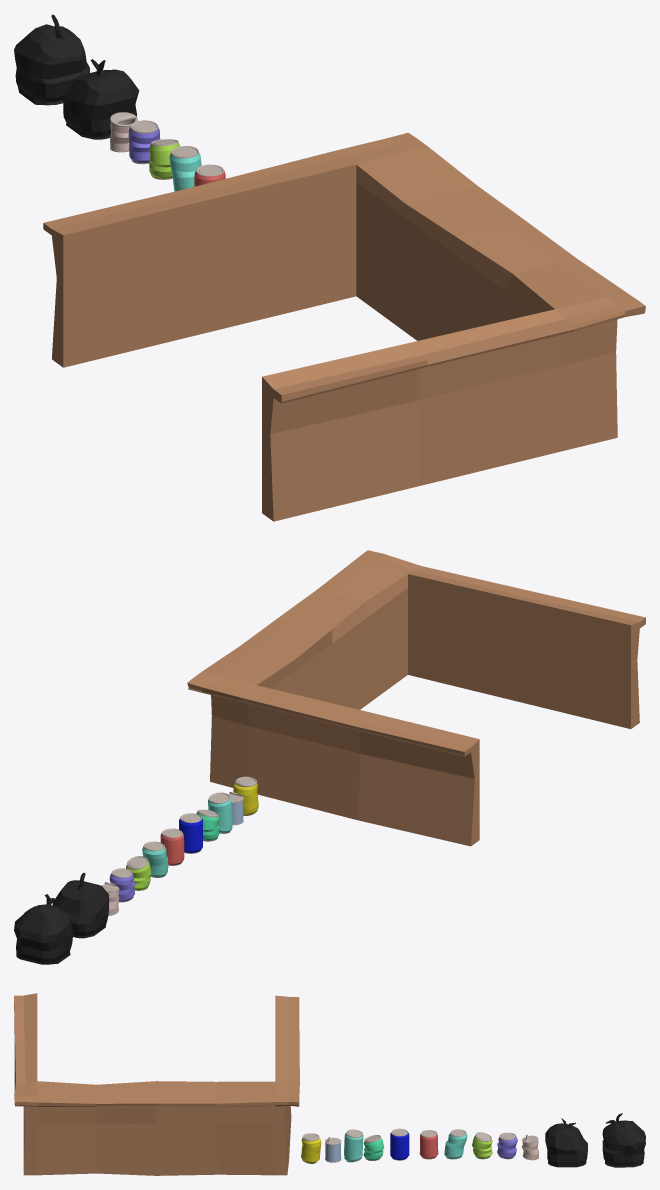
File: Trash_Shop_stand.fbx
The picture shows the model from 3 angles, top to bottom: view 1: azimuth 30°, elevation 25°; view 2: azimuth 150°, elevation 25°; view 3: azimuth 270°, elevation 25°; orthographic projection. The views are drawn at different scales.
Parts seen in each view (by area): view 1: stand.001, trash, can(teal1), can(purple), can(green), soup bent; view 2: stand.001, trash, can(blue), can(teal), can(red), can(teal1), can(yellow), can(purple), can(green); view 3: stand.001, trash, can(teal), can(blue), can(teal1), can(yellow), can(red), can(purple), can(green), can(teal-green), soup straight, soup bent.
Boxes of the visible parts, left/top/right/bottom form: stand.001: left=43, top=132, right=645, bottom=521; trash: left=14, top=14, right=139, bottom=139; can(teal1): left=169, top=146, right=201, bottom=191; can(purple): left=128, top=120, right=160, bottom=164; can(green): left=149, top=139, right=179, bottom=179; soup bent: left=110, top=112, right=137, bottom=152; stand.001: left=187, top=550, right=645, bottom=846; trash: left=14, top=872, right=108, bottom=964; can(blue): left=179, top=813, right=202, bottom=853; can(teal): left=208, top=792, right=232, bottom=833; can(red): left=160, top=828, right=184, bottom=865; can(teal1): left=142, top=841, right=168, bottom=877; can(yellow): left=233, top=776, right=258, bottom=815; can(purple): left=109, top=868, right=134, bottom=902; can(green): left=126, top=856, right=151, bottom=890; stand.001: left=14, top=993, right=299, bottom=1175; trash: left=545, top=1113, right=645, bottom=1167; can(teal): left=344, top=1129, right=363, bottom=1162; can(blue): left=390, top=1128, right=409, bottom=1160; can(teal1): left=444, top=1129, right=467, bottom=1159; can(yellow): left=301, top=1133, right=321, bottom=1163; can(red): left=419, top=1130, right=438, bottom=1159; can(purple): left=497, top=1132, right=517, bottom=1159; can(green): left=472, top=1132, right=492, bottom=1159; can(teal-green): left=363, top=1135, right=384, bottom=1160; soup straight: left=325, top=1137, right=341, bottom=1162; soup bent: left=522, top=1134, right=539, bottom=1160.
Size of the model in its own units: 1254 by 482 by 3144.
